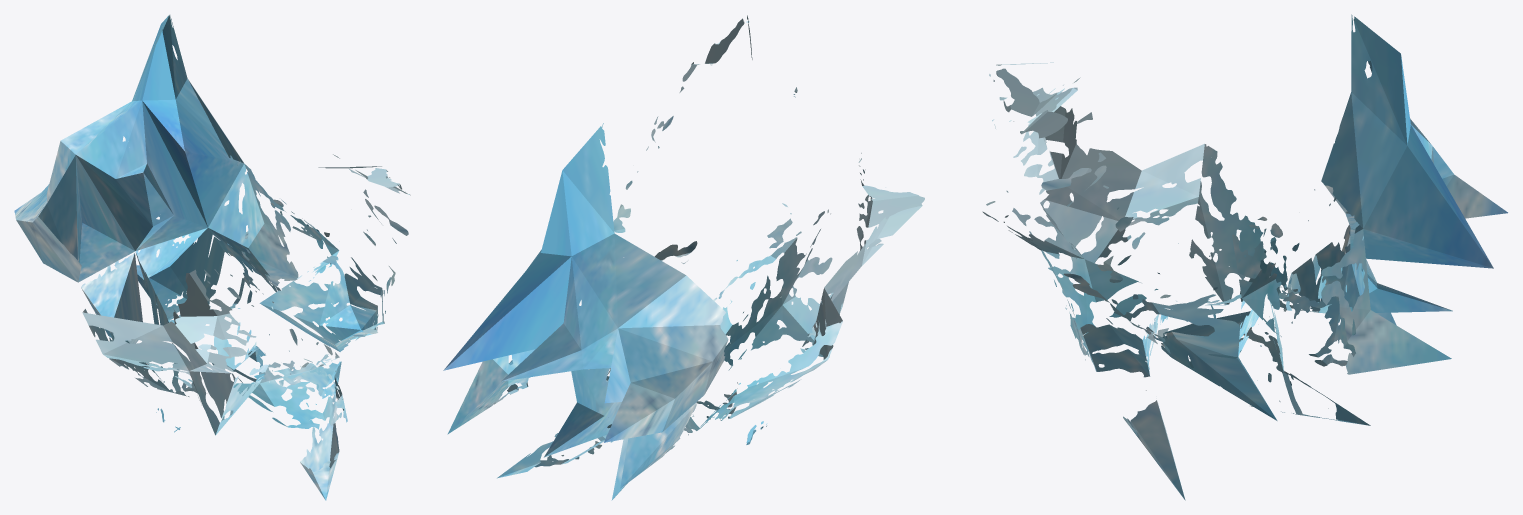
File: wolverine_rtshoulder_ice.glb
The picture shows the model from 3 angles, left to right: view 1: azimuth 30°, elevation 25°; view 2: azimuth 150°, elevation 25°; view 3: azimuth 270°, elevation 25°; orthographic projection. The views are drawn at different scales.
Parts seen in each view (by area): view 1: wolverine_rtshoulder_ice_0; view 2: wolverine_rtshoulder_ice_0; view 3: wolverine_rtshoulder_ice_0.
Part boxes in pixels (left/top/right/bottom): wolverine_rtshoulder_ice_0: left=14, top=15, right=410, bottom=500; wolverine_rtshoulder_ice_0: left=443, top=15, right=924, bottom=500; wolverine_rtshoulder_ice_0: left=982, top=14, right=1507, bottom=500.
Size of the model in its own units: 9.54 by 12.83 by 14.08.
Materials: 1 (1 with a texture image).
